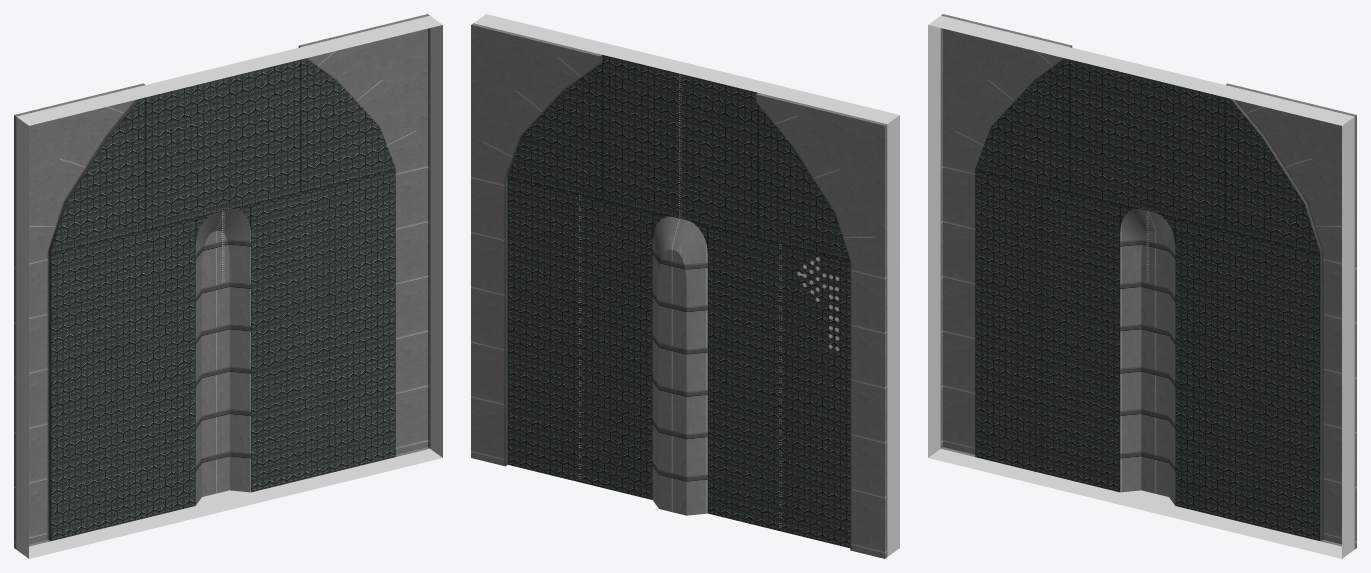
Rendered from FC_road_TC_to_FC.fbx.
The picture shows the model from 3 angles, left to right: view 1: azimuth 30°, elevation 25°; view 2: azimuth 150°, elevation 25°; view 3: azimuth 330°, elevation 25°; orthographic projection.
Parts seen in each view (by area): view 1: FC_road_TC_to_FC; view 2: FC_road_TC_to_FC, light_006, arrow; view 3: FC_road_TC_to_FC.
Part boxes in pixels (x1,y1,x2,y2): FC_road_TC_to_FC: [14, 14, 442, 558]; FC_road_TC_to_FC: [471, 14, 899, 558]; light_006: [579, 74, 781, 528]; arrow: [797, 257, 839, 351]; FC_road_TC_to_FC: [928, 14, 1356, 558].
Bounding box in the file's own units: 16 × 16 × 1.35.
